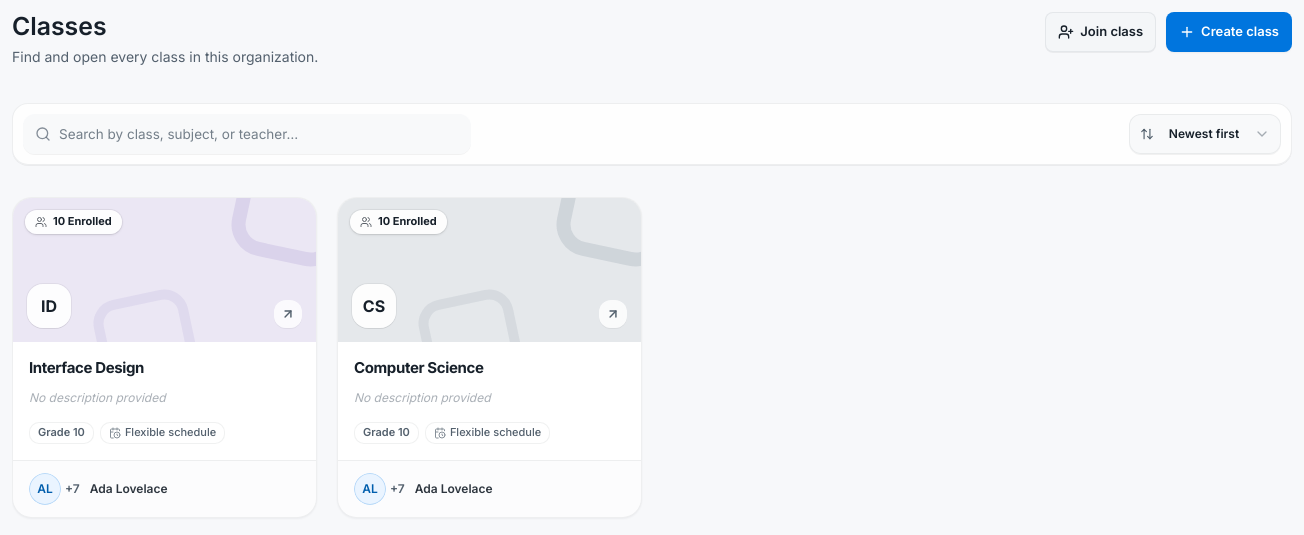
Test: ClassesClient › provides clearable search and explicit sorting
Type "science" into the search field named "Search classes" at (247, 134), box [23,114,471,154]
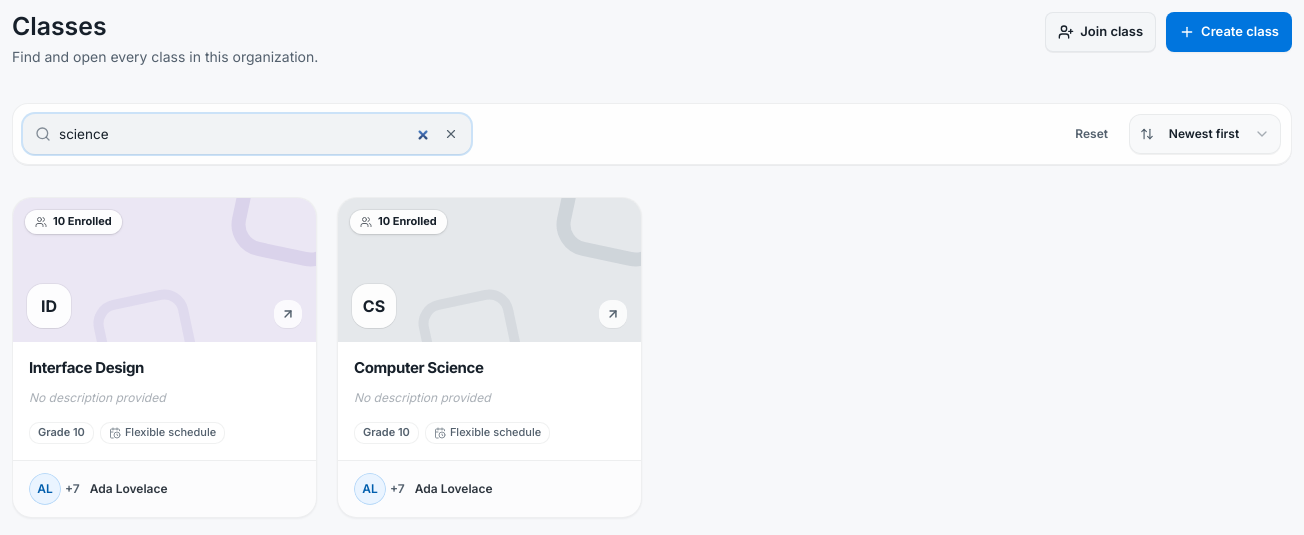
Click the button named "Clear search" at (451, 134), box [439,122,463,146]
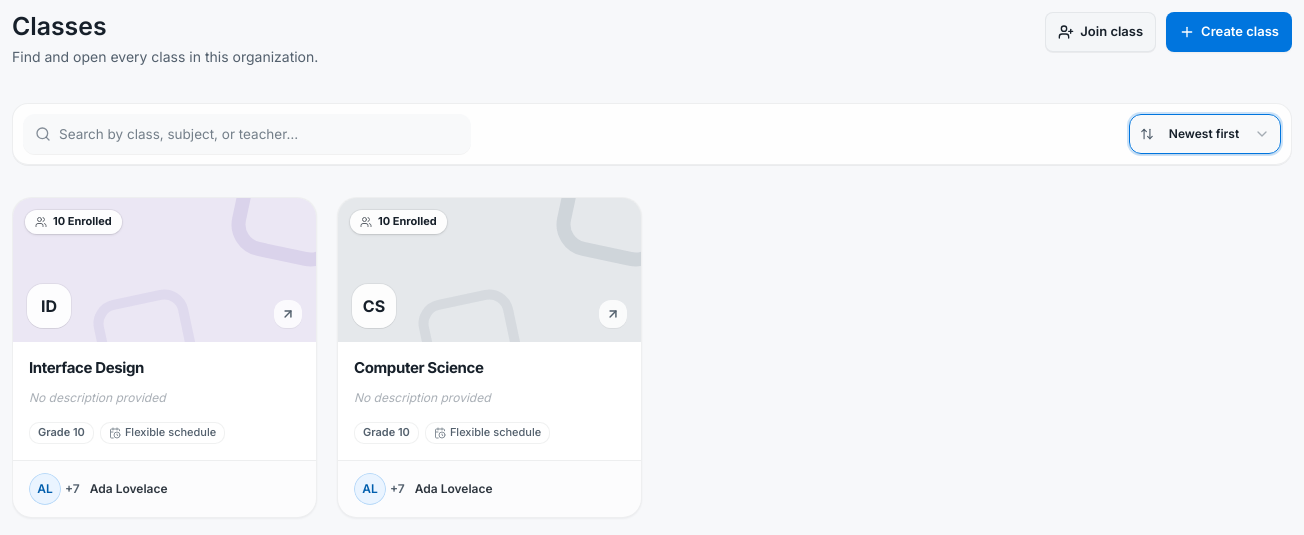
Expected: the dropdown named "Sort classes" reads "Newest first", [1129,114,1281,154]
Result: the search field named "Search classes" is empty at [23,114,471,154]
Press Enter Arrowdown Enter
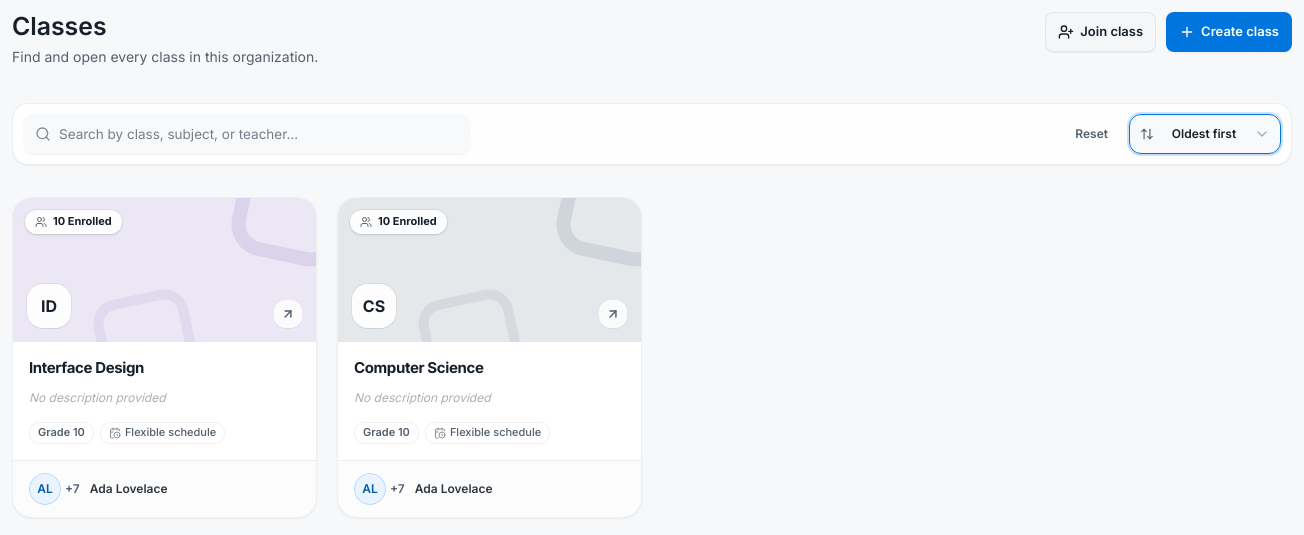
Result: the dropdown named "Sort classes" reads "Oldest first" at [1129,114,1281,154]
